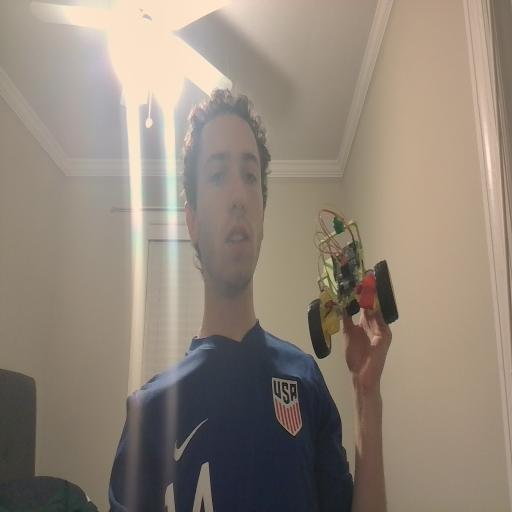green LEGO minifig: (330, 213, 346, 236)
